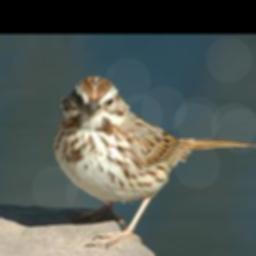Sparrow: (50, 74, 256, 245)
